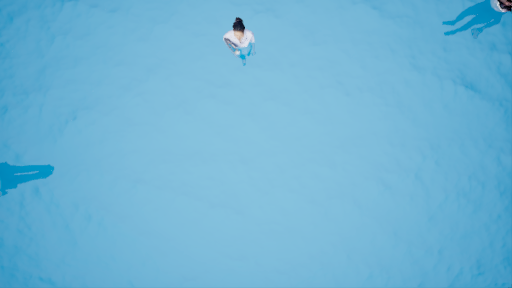person: (214, 9, 261, 72), (444, 2, 512, 34)
